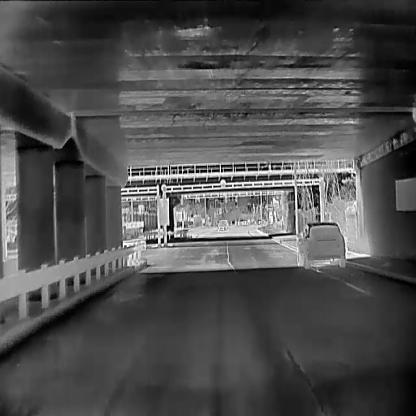car: (295, 219, 345, 268), (121, 210, 144, 239), (216, 217, 229, 230)
